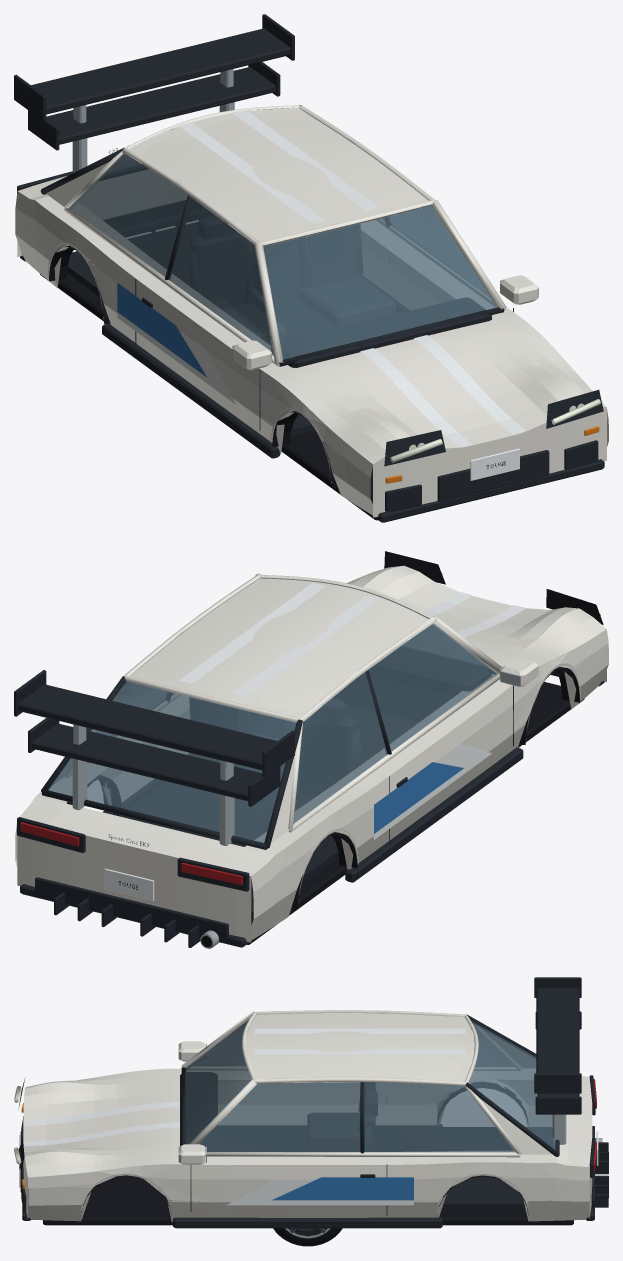
The model's file is ek9spoon.glb.
3 renders of one model, top to bottom at view 1: azimuth 30°, elevation 25°; view 2: azimuth 150°, elevation 25°; view 3: azimuth 270°, elevation 25°, orthographic. The views are drawn at different scales.
Parts seen in each view (by area): view 1: LOD0_cabin, LOD0_body, LOD0_glass, LOD1_glass, LOD1_body, LOD0_hood, LOD1_hood, LOD1_cabin, LOD1_spoiler_gt, LOD1_spoiler_stock, LOD0_vinyl_twin, LOD0_spoiler_gt (+3 smaller); view 2: LOD0_cabin, LOD0_body, LOD0_glass, LOD1_glass, LOD1_body, LOD1_spoiler_gt, LOD1_cabin, LOD1_spoiler_stock, LOD0_spoiler_stock, LOD0_spoiler_gt, LOD0_hood, LOD1_hood (+3 smaller); view 3: LOD0_cabin, LOD0_body, LOD0_glass, LOD1_glass, LOD1_body, LOD0_hood, LOD1_cabin, LOD1_hood, LOD0_vinyl_apex, LOD1_spoiler_gt, LOD0_vinyl_twin, LOD1_vinyl_twin (+5 smaller).
Part boxes in pixels (x1,y1,x2,y2): LOD0_cabin: (40,105,506,436); LOD0_body: (15,171,608,522); LOD0_glass: (71,154,496,359); LOD1_glass: (71,154,496,359); LOD1_body: (15,169,608,522); LOD0_hood: (283,316,584,450); LOD1_hood: (325,333,566,448); LOD1_cabin: (45,105,497,436); LOD1_spoiler_gt: (14,28,294,123); LOD1_spoiler_stock: (46,67,279,172); LOD0_vinyl_twin: (179,110,511,444); LOD0_spoiler_gt: (14,14,294,123); LOD0_cabin: (41,573,501,918); LOD0_body: (15,551,608,948); LOD0_glass: (48,624,496,842); LOD1_glass: (48,624,496,842); LOD1_body: (15,572,607,948); LOD1_spoiler_gt: (16,670,279,780); LOD1_cabin: (41,574,498,918); LOD1_spoiler_stock: (30,723,262,845); LOD0_spoiler_stock: (28,718,280,845); LOD0_spoiler_gt: (14,670,294,780); LOD0_hood: (352,565,592,676); LOD1_hood: (363,580,550,657); LOD0_cabin: (180,1010,559,1209); LOD0_body: (14,1041,608,1228); LOD0_glass: (185,1019,555,1152); LOD1_glass: (185,1021,555,1152); LOD1_body: (15,1041,602,1227); LOD0_hood: (23,1074,180,1165); LOD1_cabin: (181,1011,557,1209); LOD1_hood: (23,1082,171,1155); LOD0_vinyl_apex: (226,1177,413,1205); LOD1_spoiler_gt: (535,978,581,1073); LOD0_vinyl_twin: (25,1028,465,1145); LOD1_vinyl_twin: (23,1028,465,1146).
Size of the model in its own units: 1.96 by 1.75 by 4.37.
